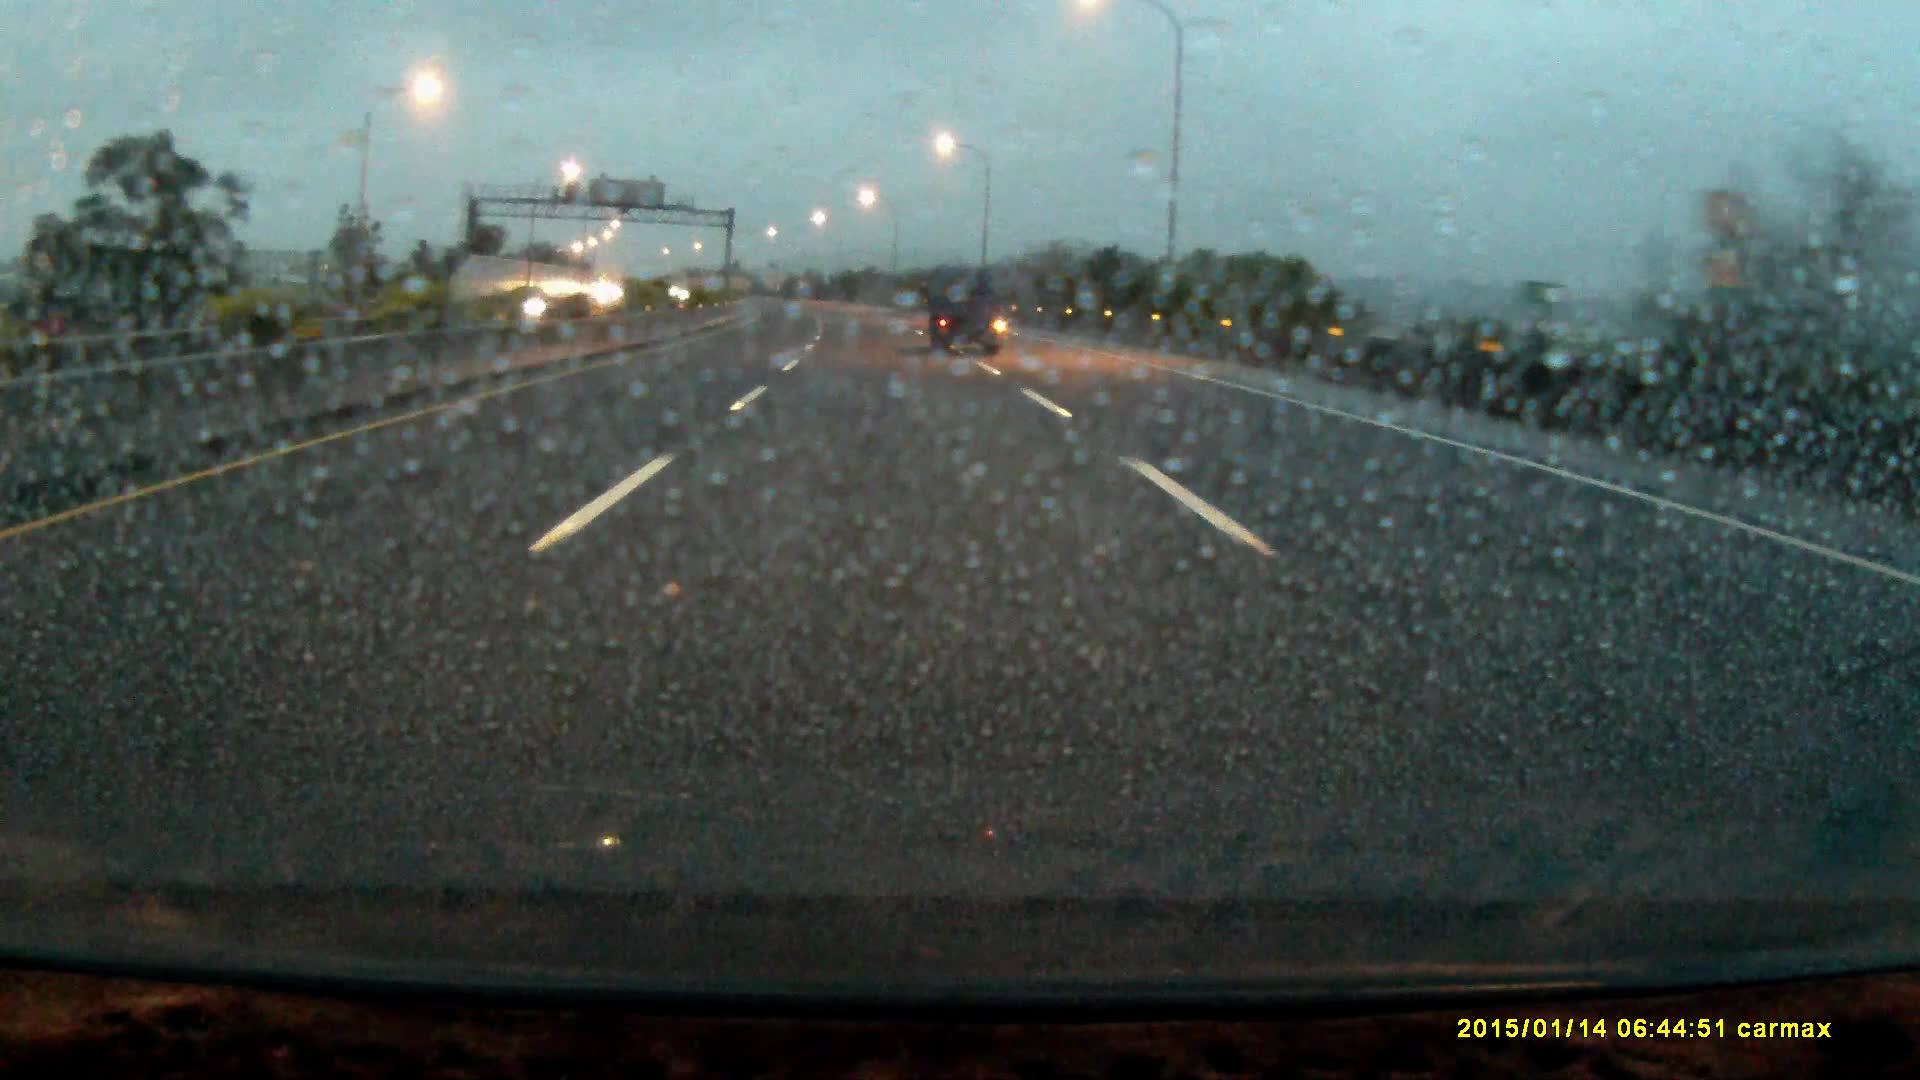vehicle: (926, 272, 1009, 357)
